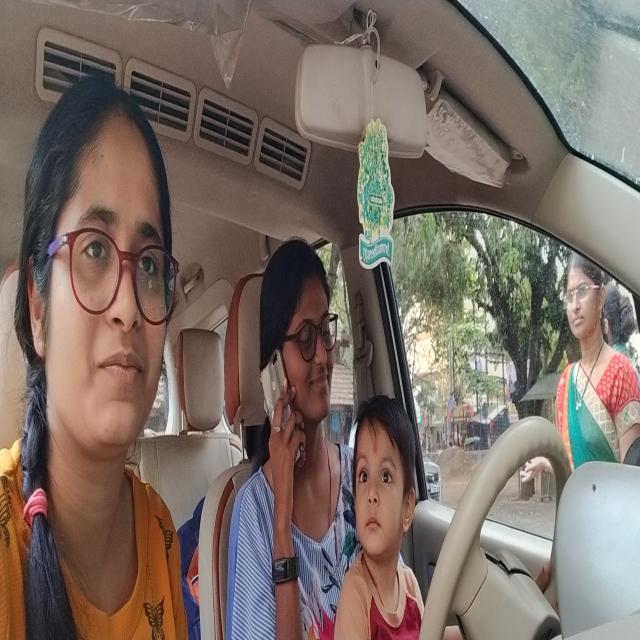child: (350, 394, 418, 564)
mobile: (253, 352, 301, 462)
person: (17, 66, 178, 443), (254, 233, 344, 462)
